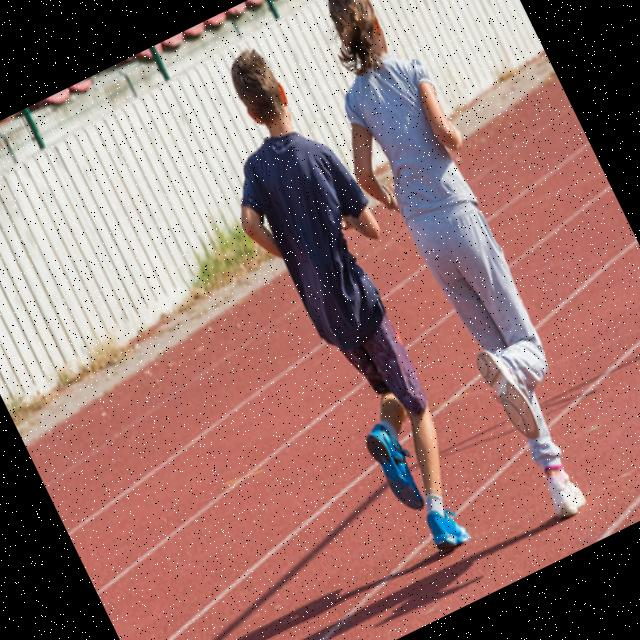Person: (274, 0, 633, 535), (172, 31, 519, 570)
